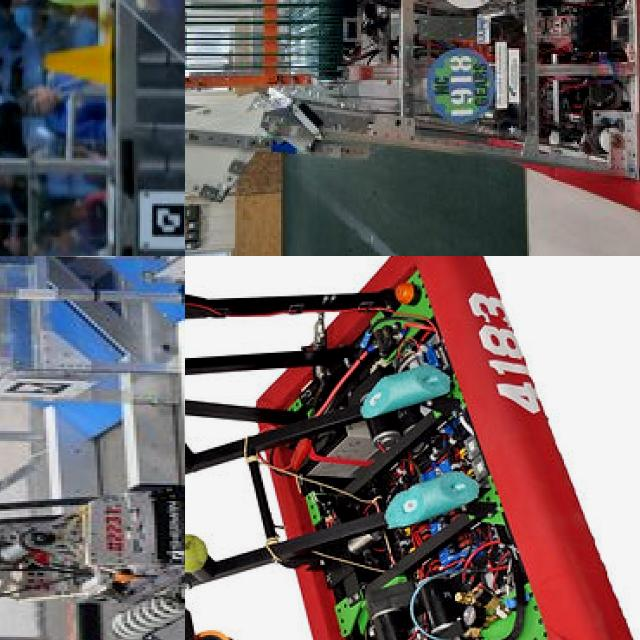FRC-Robots: (185, 256, 633, 640), (185, 0, 640, 256), (0, 1, 185, 256), (0, 410, 185, 640)
